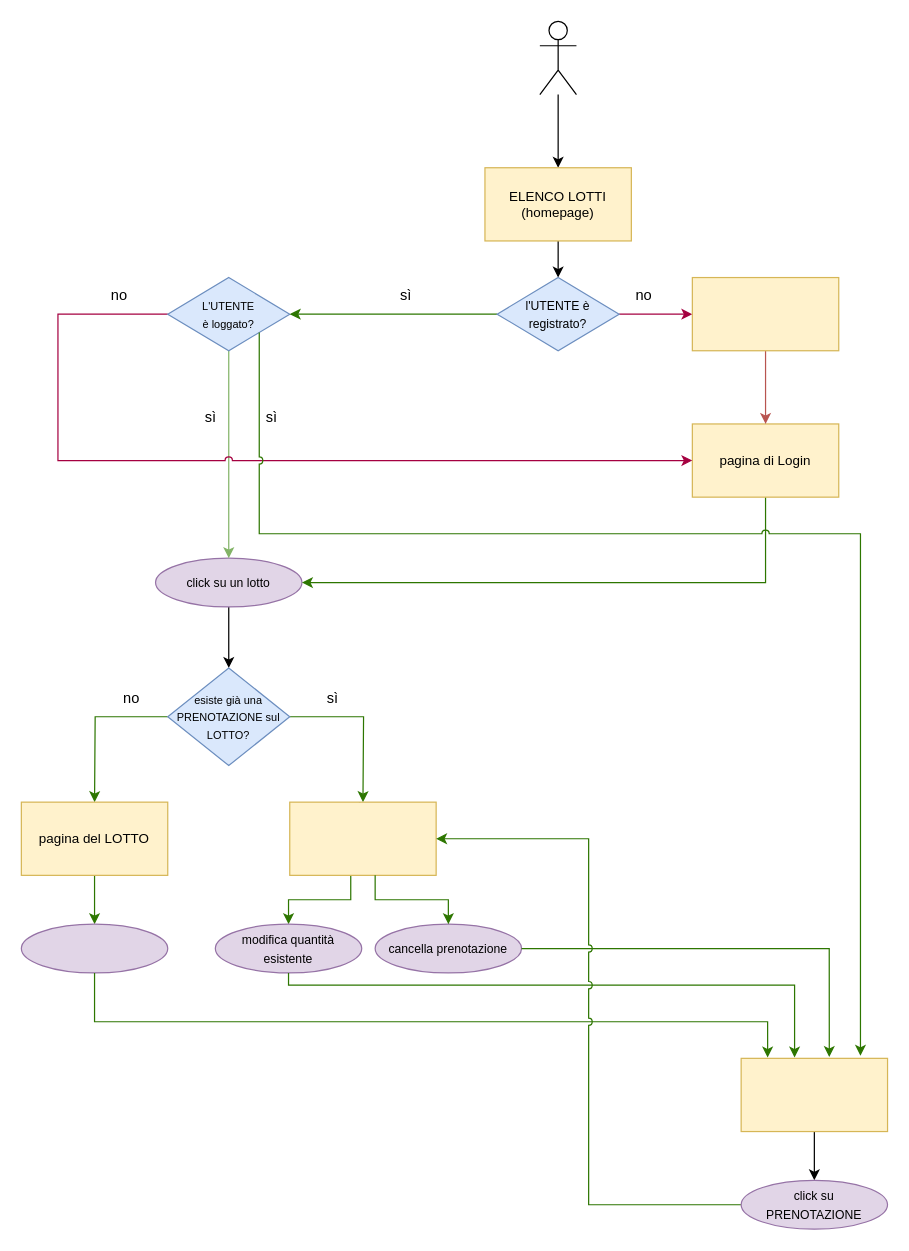
This 909x1251 diagram has some shape labels left out. The shapes that lost their labels are listed below. From the top down, each one's box as (x1, y1, x2, y2) in pixels, then its label:
(539, 20, 576, 95): Utente
(691, 276, 839, 351): pagina di Registrazione
(289, 801, 436, 875): pagina della PRENOTAZIONE
(20, 923, 168, 973): invio della quantità da prenotare
(740, 1057, 888, 1132): elenco PRENOTAZIONI
